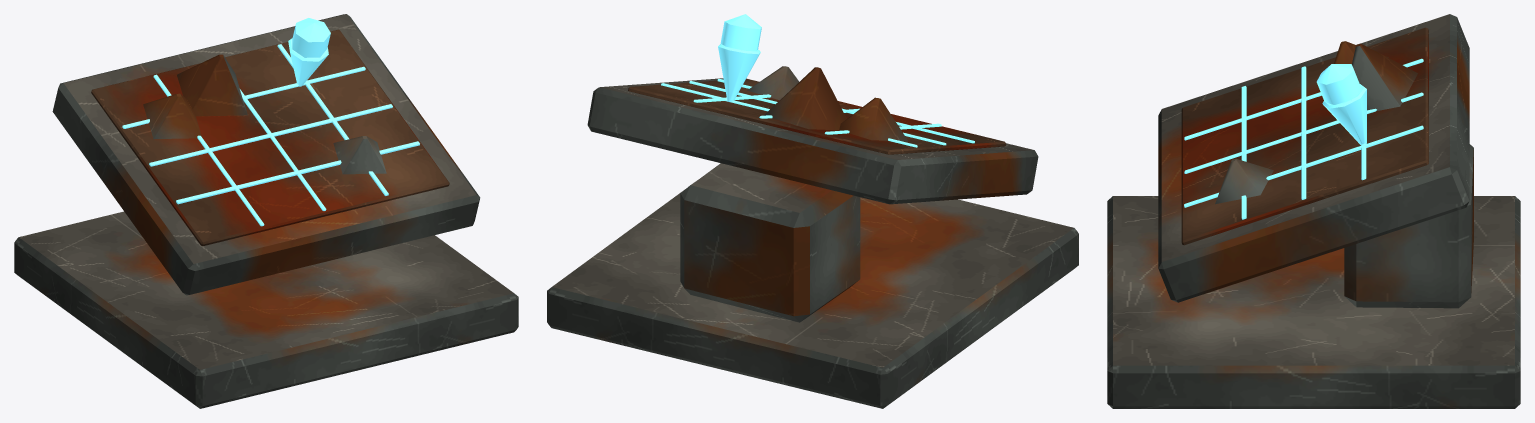
Rendered from R4X_Minimap_LOD1.glb.
3 views of the same model, side by side, from view 1: azimuth 30°, elevation 25°; view 2: azimuth 150°, elevation 25°; view 3: azimuth 270°, elevation 25° (orthographic). The views are drawn at different scales.
Visible parts, largest first — view 1: R4X_Minimap_LOD1; view 2: R4X_Minimap_LOD1; view 3: R4X_Minimap_LOD1.
Boxes of the visible parts, x1=… form: R4X_Minimap_LOD1: x1=14, y1=14, x2=518, y2=408; R4X_Minimap_LOD1: x1=547, y1=14, x2=1078, y2=408; R4X_Minimap_LOD1: x1=1107, y1=14, x2=1520, y2=408.
Bounding box in the file's own units: 0.52 × 0.403 × 0.52.
4 materials, 3 textured.
